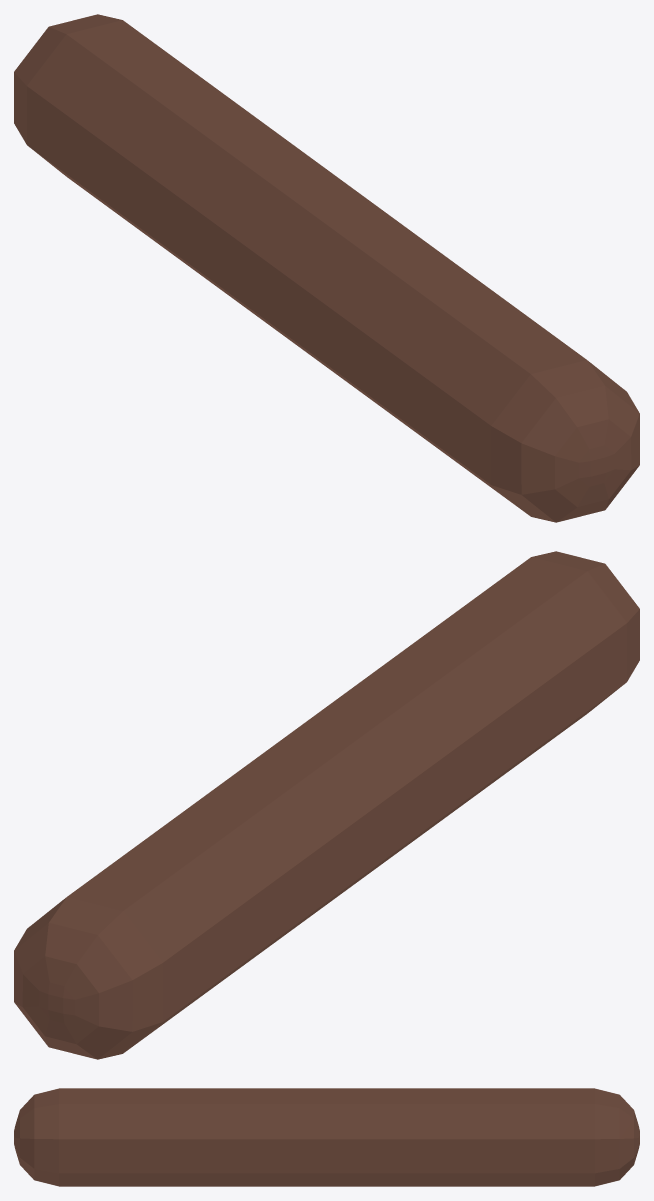
Rendered from Sausage_Cooked.glb.
3 views of the same model, one above another, from view 1: azimuth 30°, elevation 25°; view 2: azimuth 150°, elevation 25°; view 3: azimuth 270°, elevation 25° (orthographic). The views are drawn at different scales.
Parts seen in each view (by area): view 1: Sausage_Cooked; view 2: Sausage_Cooked; view 3: Sausage_Cooked.
Boxes of the visible parts, x1,y1,x2,y2 form: Sausage_Cooked: (14, 14, 639, 522); Sausage_Cooked: (14, 551, 639, 1059); Sausage_Cooked: (14, 1088, 639, 1186).
Bounding box in the file's own units: 0.2396 × 0.2414 × 1.66.
